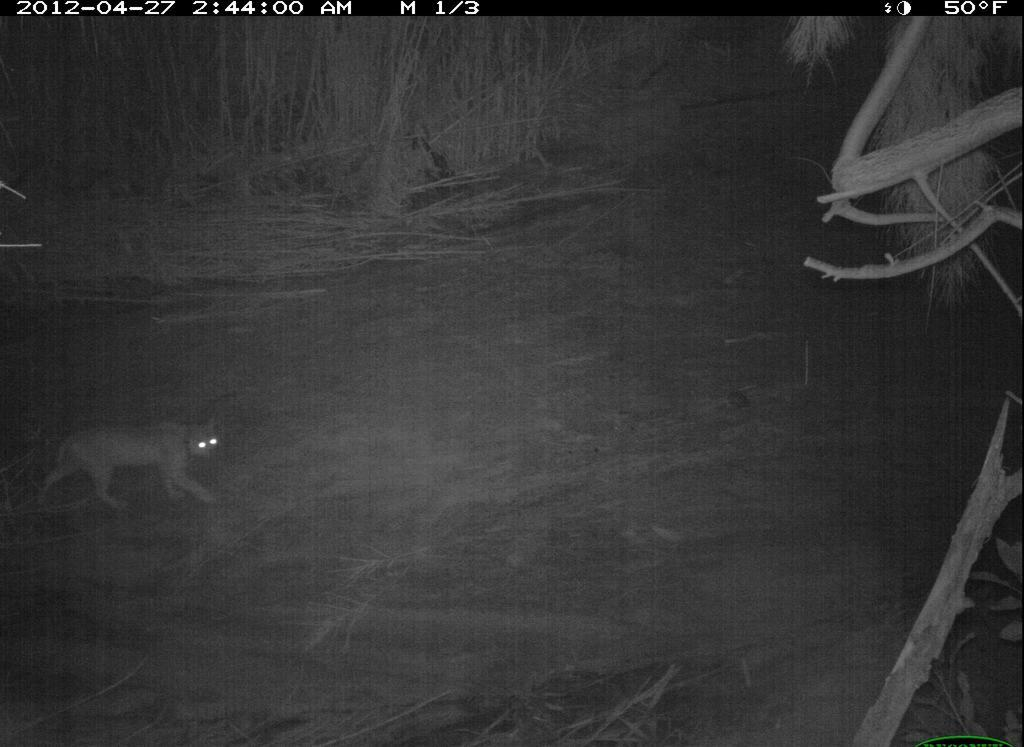bobcat: (30, 400, 236, 528)
